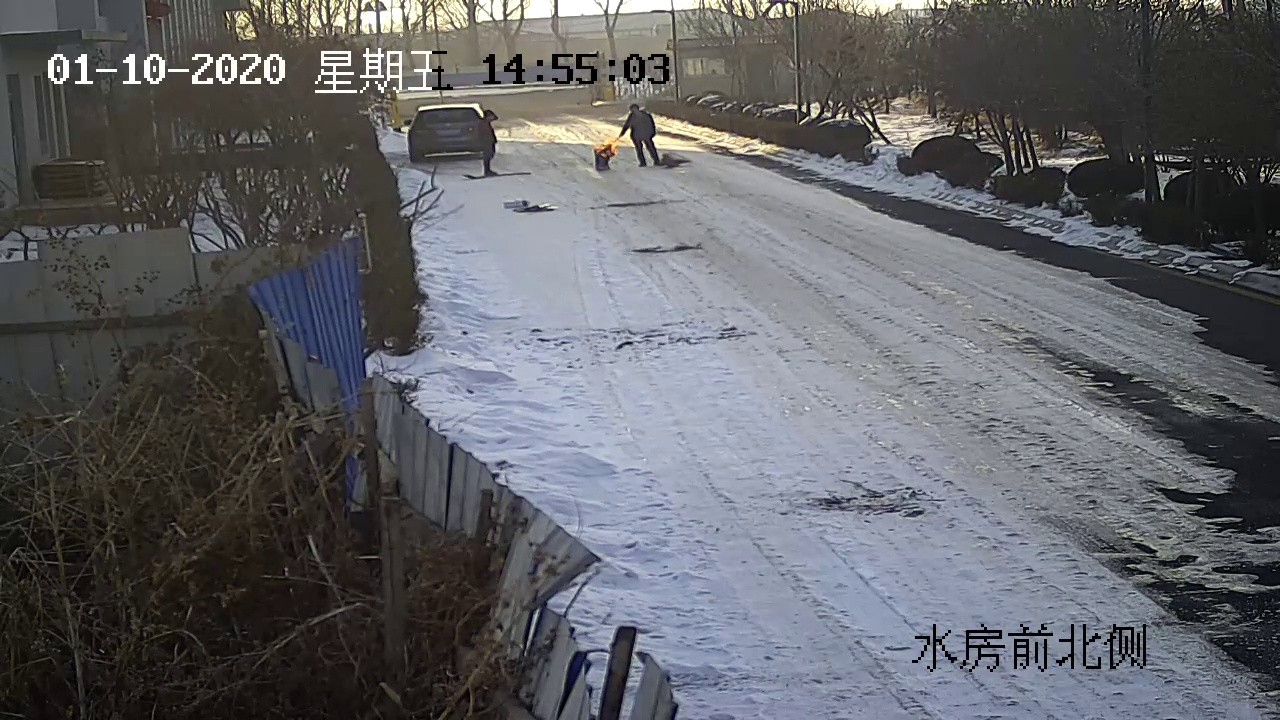fire: (599, 141, 616, 158)
